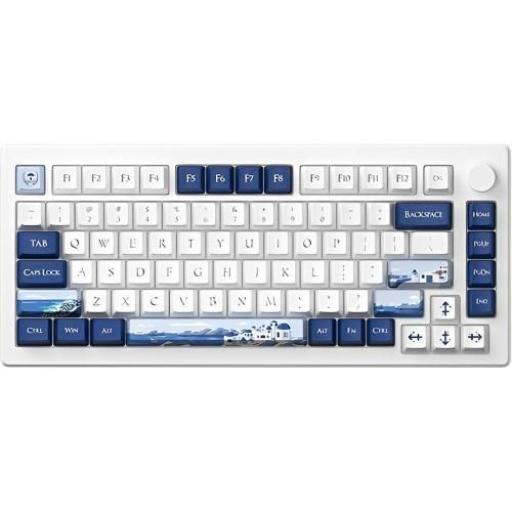keyboard: (0, 145, 511, 366)
